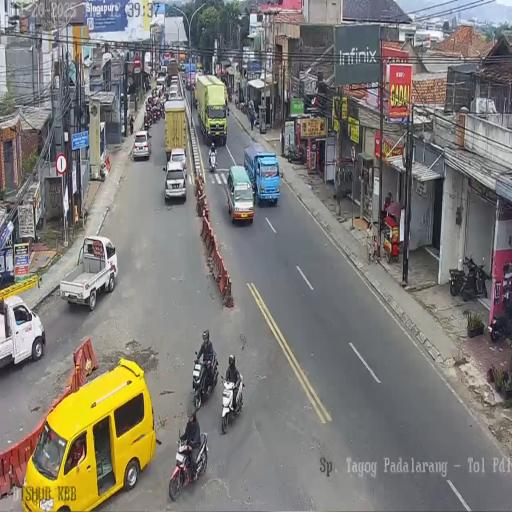car: (23, 356, 156, 510), (60, 236, 118, 310), (0, 297, 45, 370), (226, 164, 254, 223), (168, 146, 187, 180), (132, 130, 152, 161), (156, 74, 166, 89), (170, 74, 179, 89), (181, 72, 186, 85)
motorcycle: (167, 428, 207, 502), (192, 349, 218, 410), (221, 372, 245, 432), (449, 253, 474, 296), (489, 302, 511, 342), (285, 141, 305, 164), (208, 148, 218, 172), (152, 103, 162, 121), (240, 99, 250, 115), (144, 112, 152, 132), (225, 100, 230, 116), (152, 86, 158, 97), (228, 86, 232, 102), (235, 94, 239, 108)
truck: (196, 72, 229, 146), (184, 62, 197, 90), (179, 60, 186, 72)
